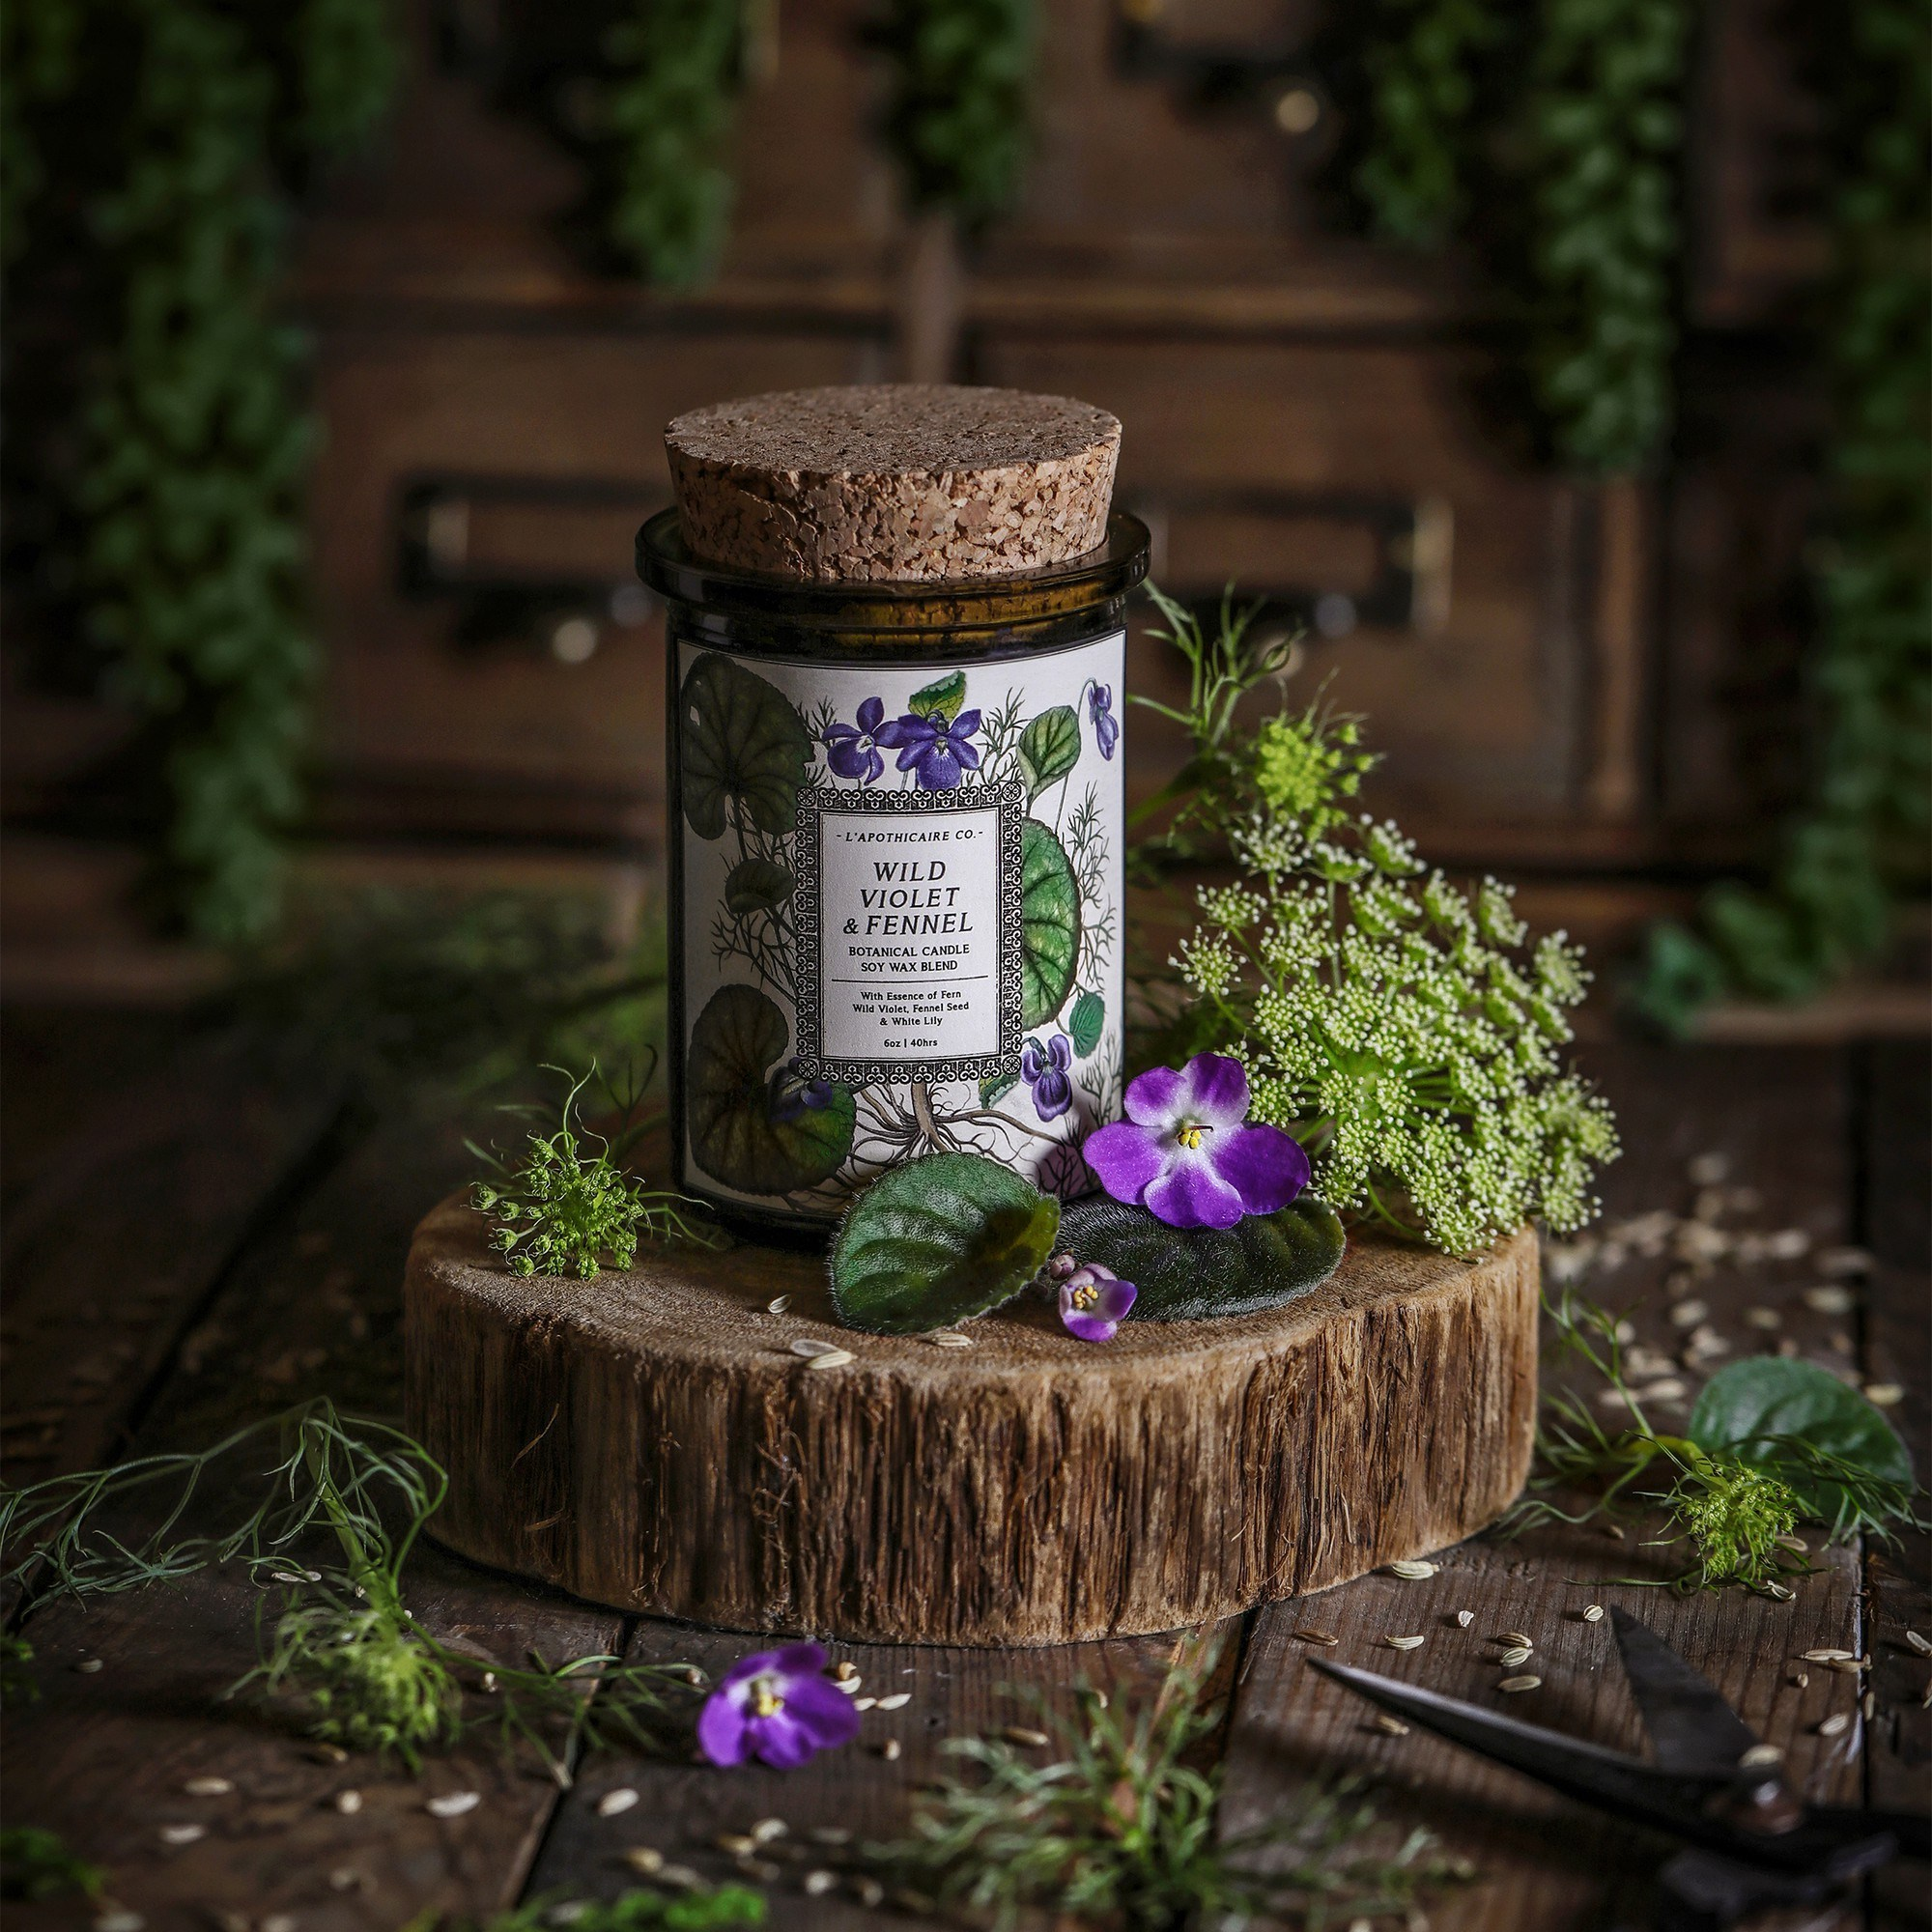violet: (1051, 1007, 1361, 1247), (704, 1635, 860, 1771), (869, 686, 982, 793), (817, 695, 895, 784), (1070, 679, 1122, 771)
